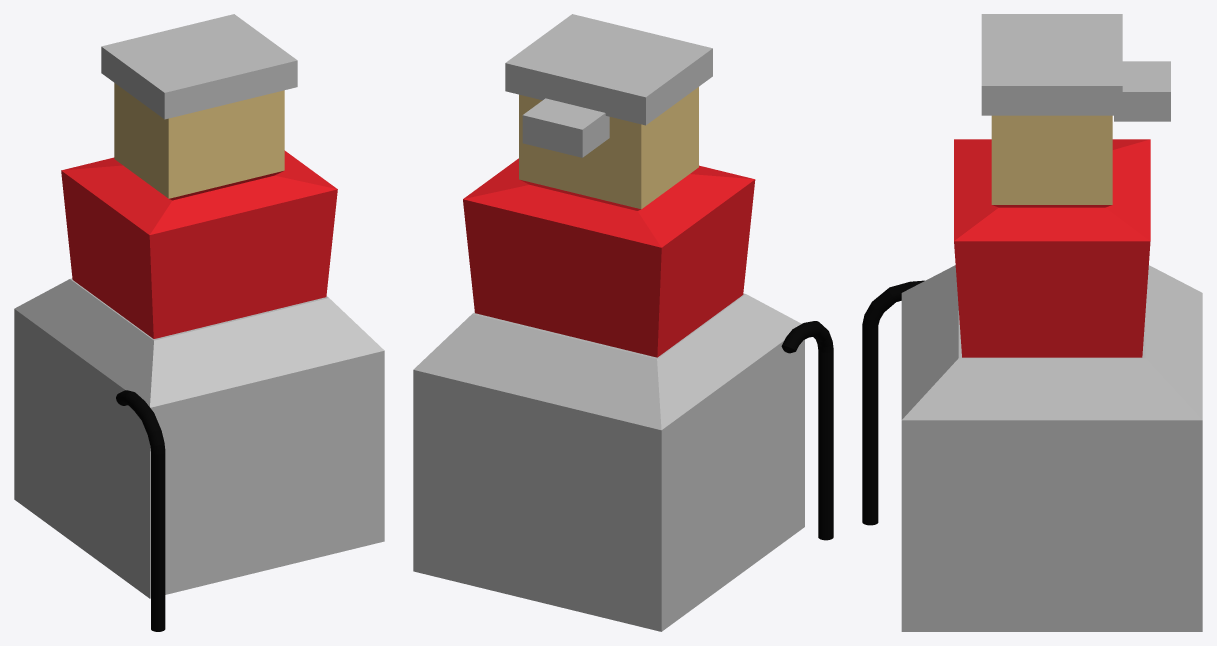
The model's file is Человек №5.fbx.
3 views of the same model, side by side, from view 1: azimuth 30°, elevation 25°; view 2: azimuth 150°, elevation 25°; view 3: azimuth 270°, elevation 25° (orthographic). The views are drawn at different scales.
Parts seen in each view (by area): view 1: Cube, Cube.001; view 2: Cube, Cube.001; view 3: Cube, Cube.001.
Part boxes in pixels (<box>): Cube: <box>14,14,384,598</box>; Cube.001: <box>116,390,165,631</box>; Cube: <box>413,14,804,631</box>; Cube.001: <box>781,321,833,540</box>; Cube: <box>901,14,1202,631</box>; Cube.001: <box>862,280,924,525</box>.
Bounding box in the file's own units: 263 × 497 × 282.
